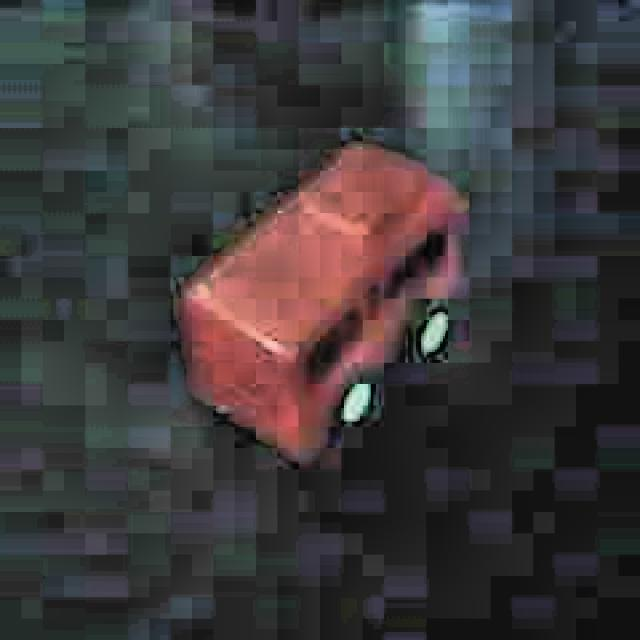bus: (174, 138, 478, 464)
